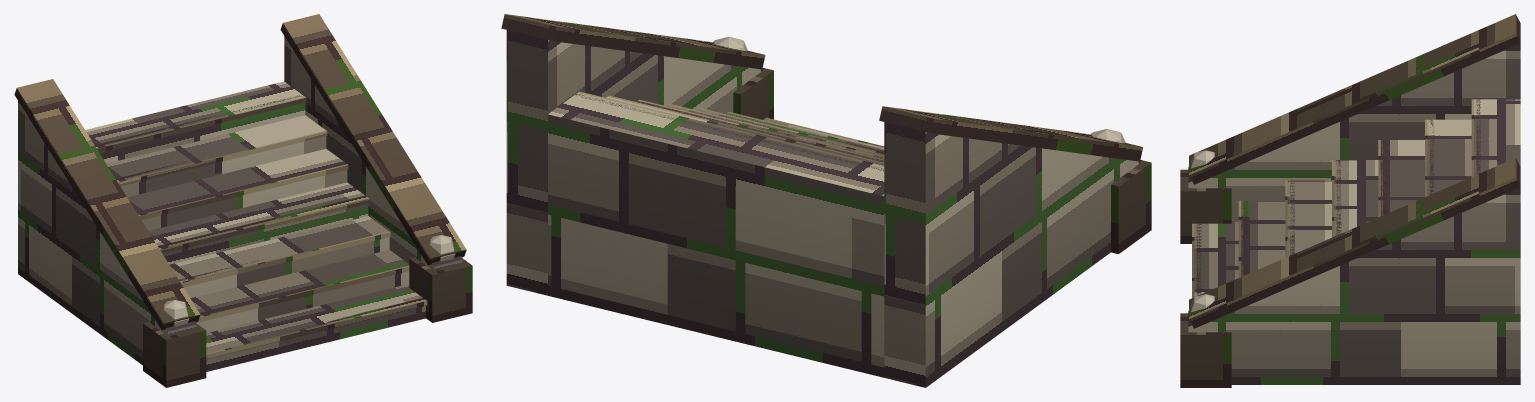
The model's file is scene_stair_chapel_ledge.glb.
3 renders of one model, left to right at view 1: azimuth 30°, elevation 25°; view 2: azimuth 150°, elevation 25°; view 3: azimuth 270°, elevation 25°, orthographic. The views are drawn at different scales.
Parts seen in each view (by area): view 1: scene_stair_chapel_ledge; view 2: scene_stair_chapel_ledge; view 3: scene_stair_chapel_ledge.
Boxes of the visible parts, <box> form: scene_stair_chapel_ledge: <box>14,14,472,387</box>; scene_stair_chapel_ledge: <box>501,14,1151,387</box>; scene_stair_chapel_ledge: <box>1180,14,1520,387</box>.
Bounding box in the file's own units: 3.36 × 1.98 × 2.92.
Materials: 2 (1 with a texture image).
